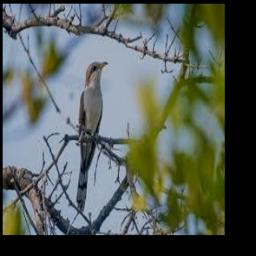Cuckoo: (76, 61, 108, 213)
